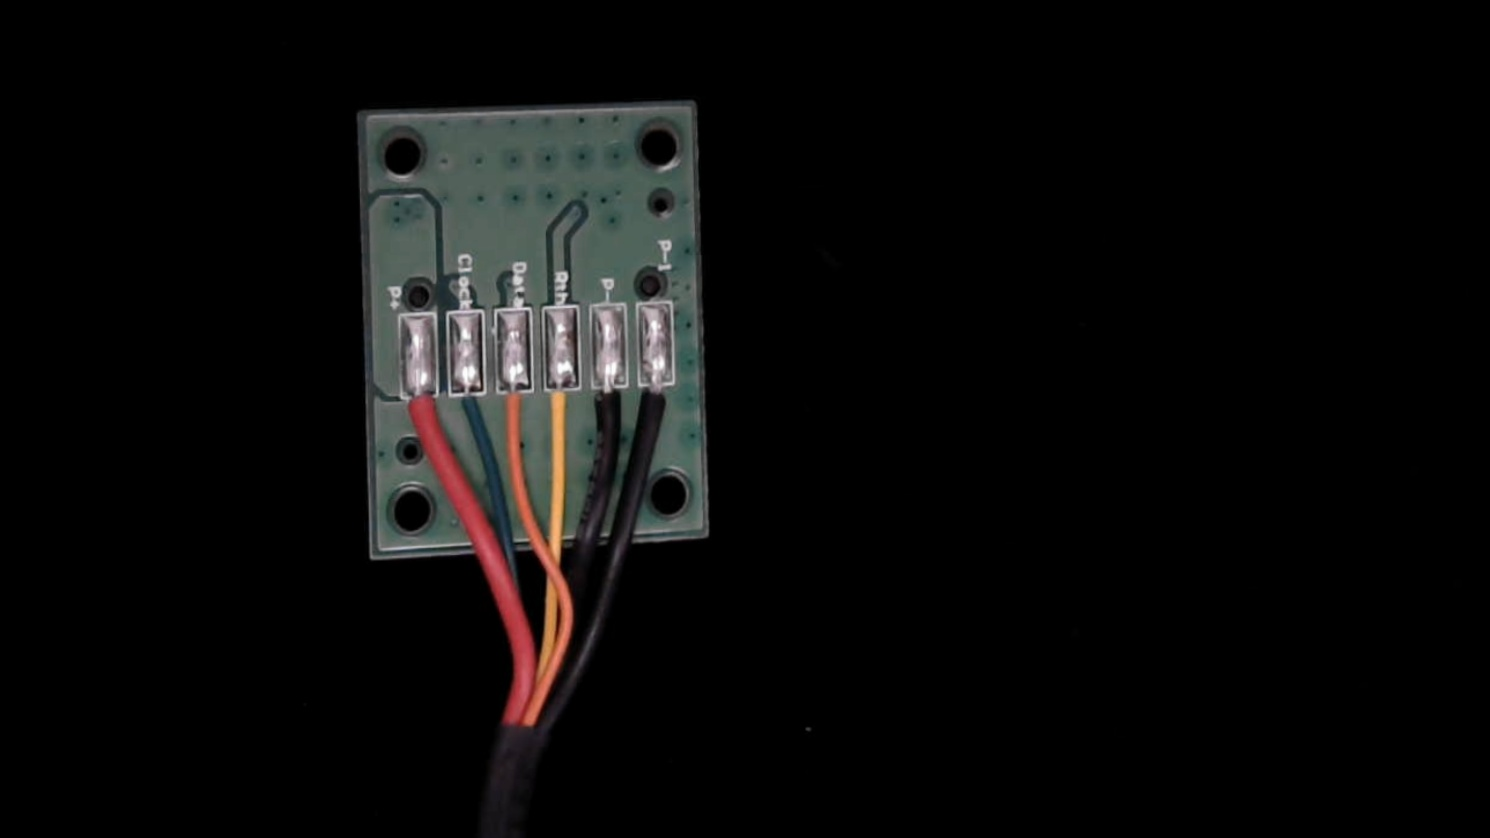Black: (590, 365, 626, 449)
Black1: (639, 360, 678, 450)
Green: (448, 372, 488, 446)
Orange: (495, 369, 536, 454)
Red: (399, 374, 441, 470)
Yellow: (541, 368, 582, 454)
